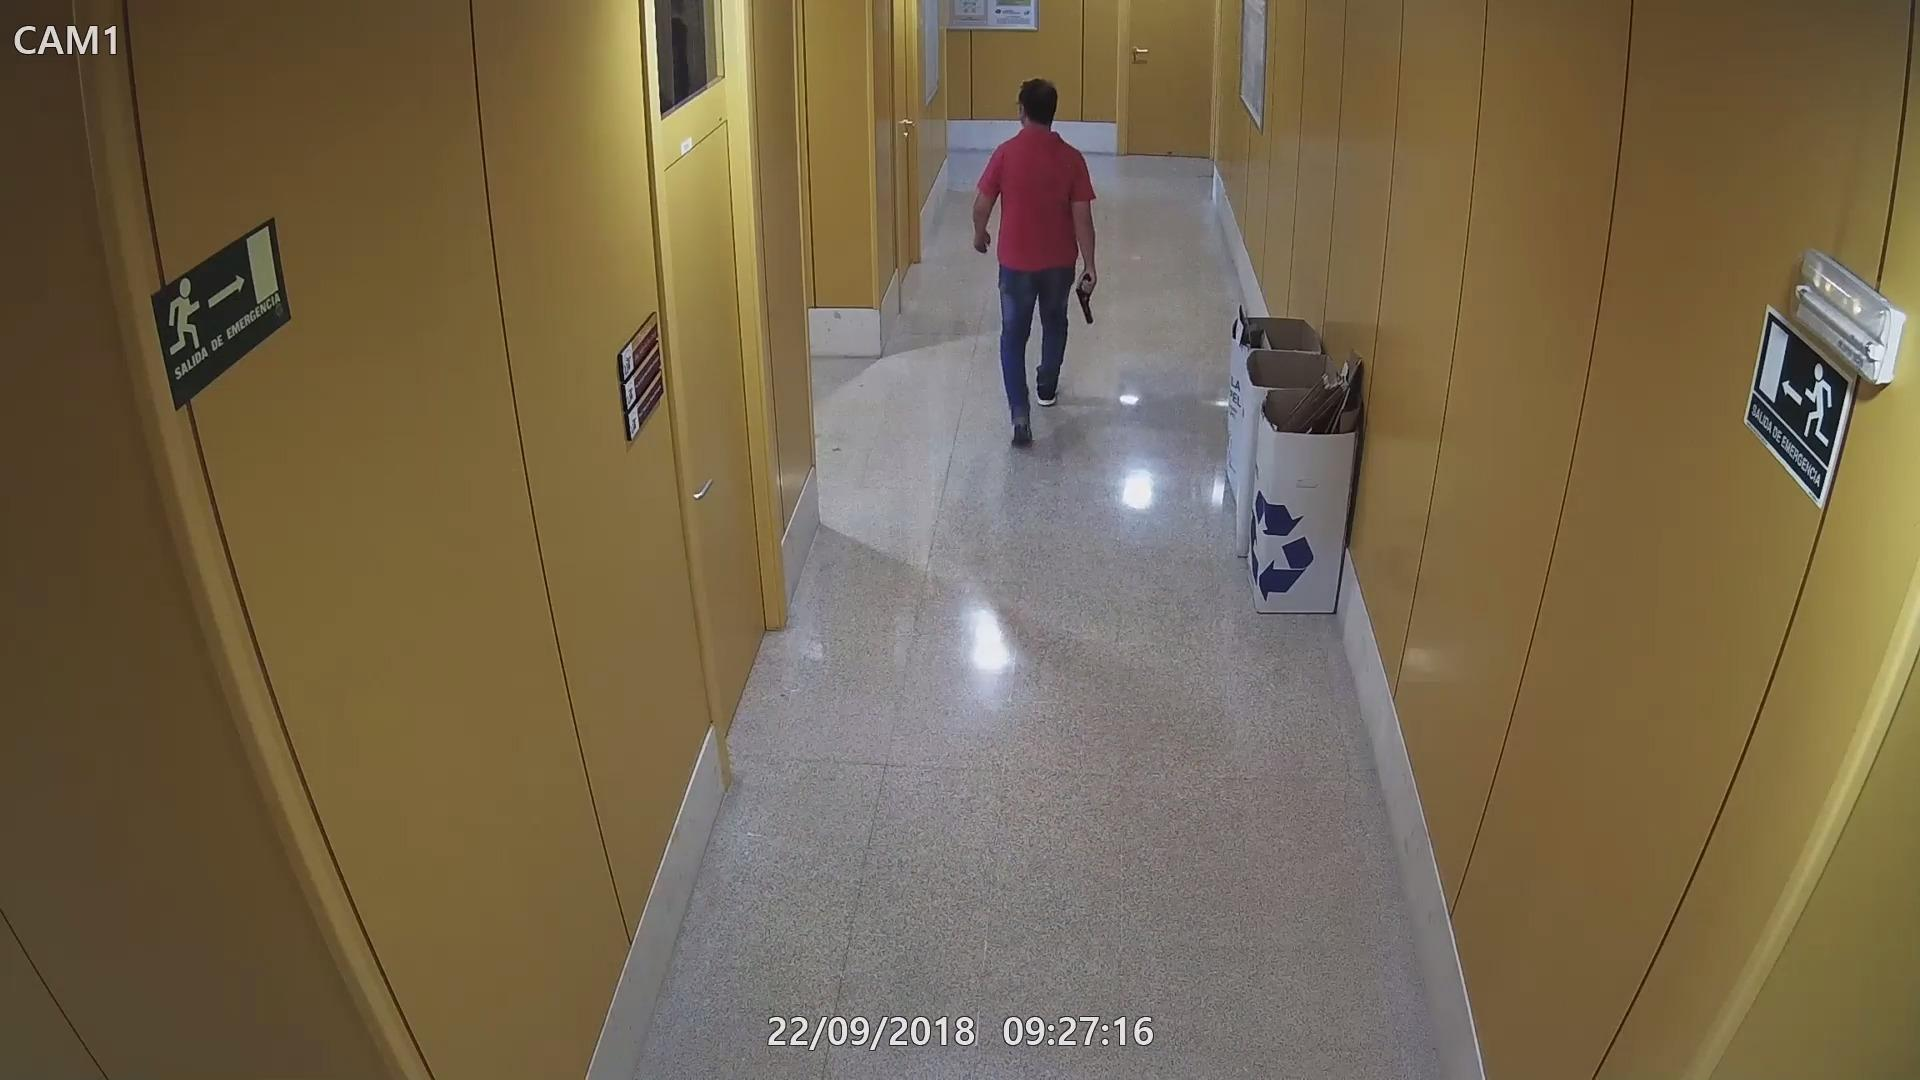Handgun: (1072, 269, 1101, 324)
